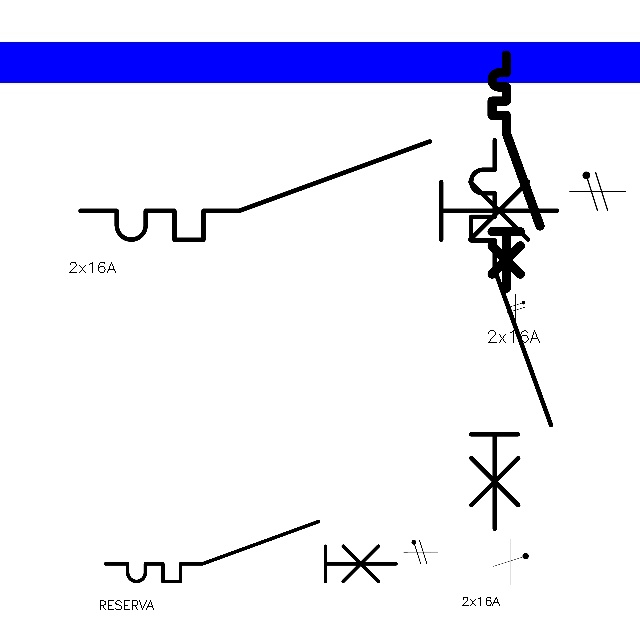interruptor_termomagnetico: (68, 129, 569, 252), (461, 130, 561, 539), (98, 514, 403, 589), (486, 49, 546, 294)
